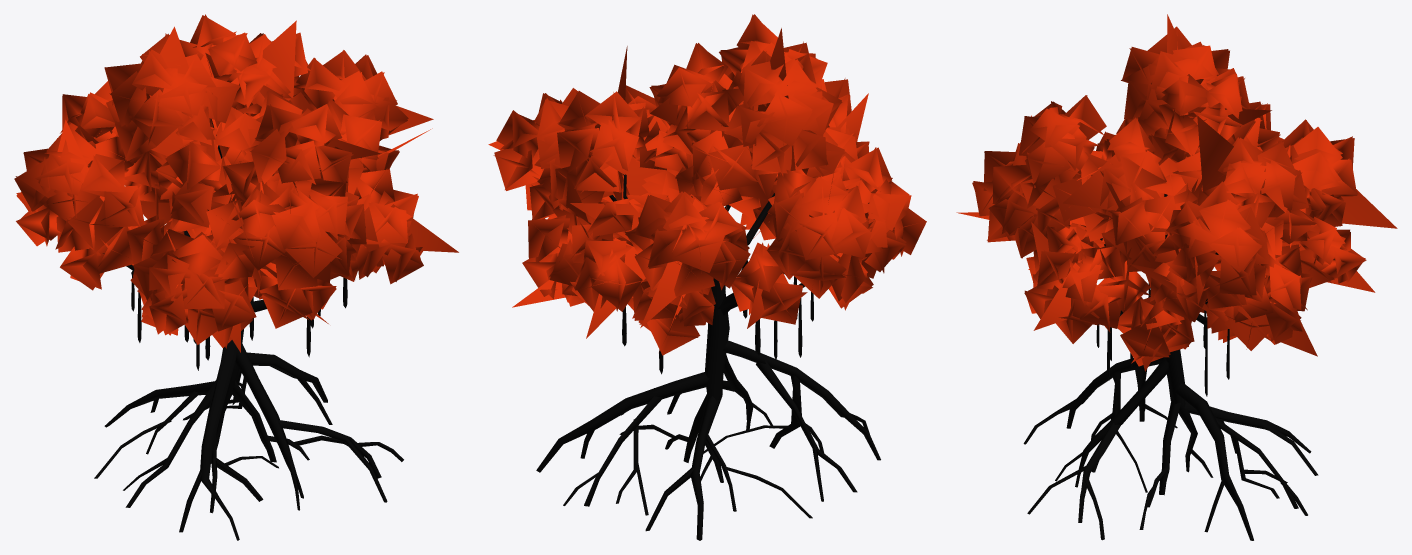
The model's file is G_MangroveTree_001_S1.fbx.
The picture shows the model from 3 angles, left to right: view 1: azimuth 30°, elevation 25°; view 2: azimuth 150°, elevation 25°; view 3: azimuth 270°, elevation 25°; orthographic projection. The views are drawn at different scales.
Visible parts, largest first — view 1: G_MangroveTree_001_S1_P01_LOD0; view 2: G_MangroveTree_001_S1_P01_LOD0; view 3: G_MangroveTree_001_S1_P01_LOD0.
Part boxes in pixels (bbox=[...]): G_MangroveTree_001_S1_P01_LOD0: bbox=[14, 14, 458, 540]; G_MangroveTree_001_S1_P01_LOD0: bbox=[488, 14, 926, 540]; G_MangroveTree_001_S1_P01_LOD0: bbox=[956, 14, 1397, 540].
Size of the model in its own units: 603 by 659 by 604.
